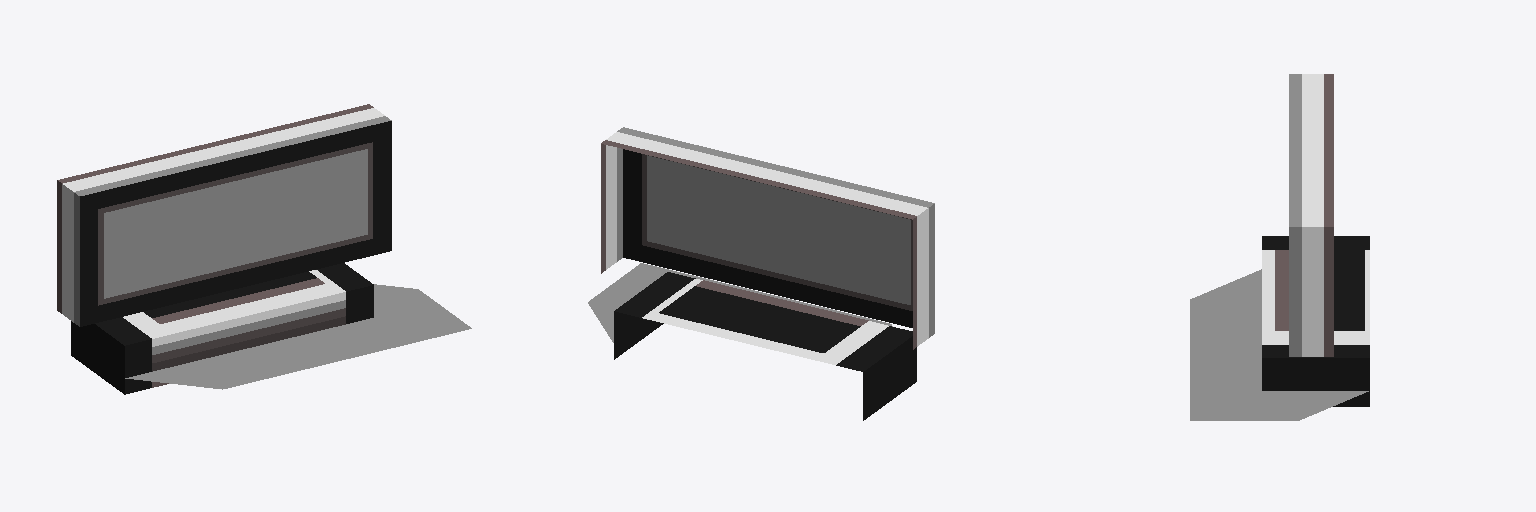
The picture shows the model from 3 angles: view 1: azimuth 30°, elevation 25°; view 2: azimuth 150°, elevation 25°; view 3: azimuth 270°, elevation 25°; orthographic projection.
Visible parts, largest first — view 1: polygon2.002, polygon0.002, polygon1.002; view 2: polygon2.002, polygon0.002, polygon1.002; view 3: polygon2.002, polygon1.002.
Boxes of the visible parts, x1=… form: polygon2.002: x1=57, y1=104, x2=391, y2=394; polygon0.002: x1=104, y1=149, x2=367, y2=298; polygon1.002: x1=125, y1=284, x2=471, y2=389; polygon2.002: x1=601, y1=127, x2=934, y2=420; polygon0.002: x1=647, y1=155, x2=910, y2=304; polygon1.002: x1=588, y1=263, x2=892, y2=342; polygon2.002: x1=1262, y1=74, x2=1369, y2=406; polygon1.002: x1=1190, y1=269, x2=1368, y2=420.
Size of the model in its own units: 3.45 by 1.88 by 1.57.
Materials: 3 (1 with a texture image).